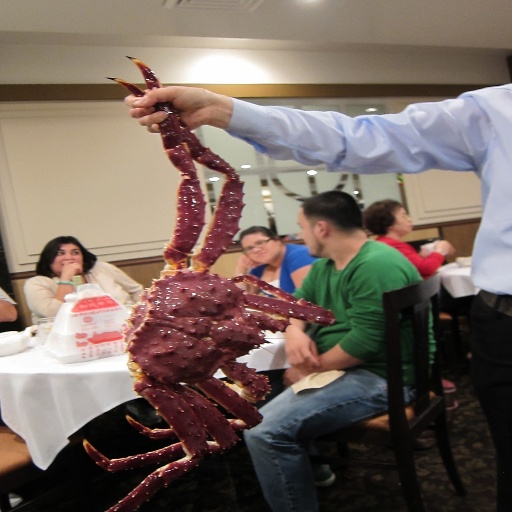hand: (111, 72, 240, 131), (281, 328, 323, 375), (279, 366, 303, 387), (57, 258, 82, 277), (238, 252, 259, 268), (436, 241, 455, 253)
